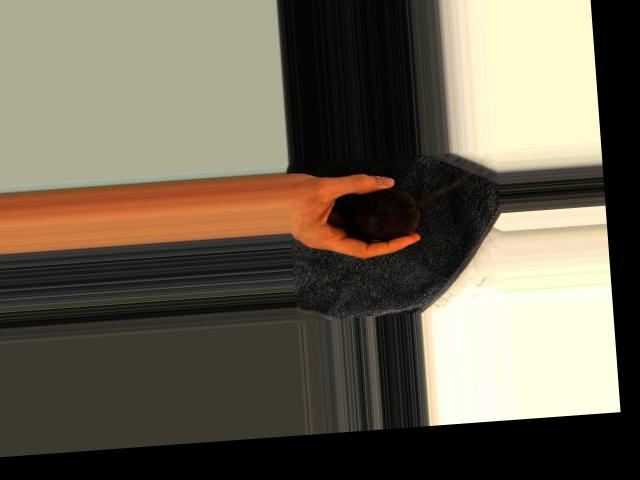beet: (352, 186, 421, 242)
